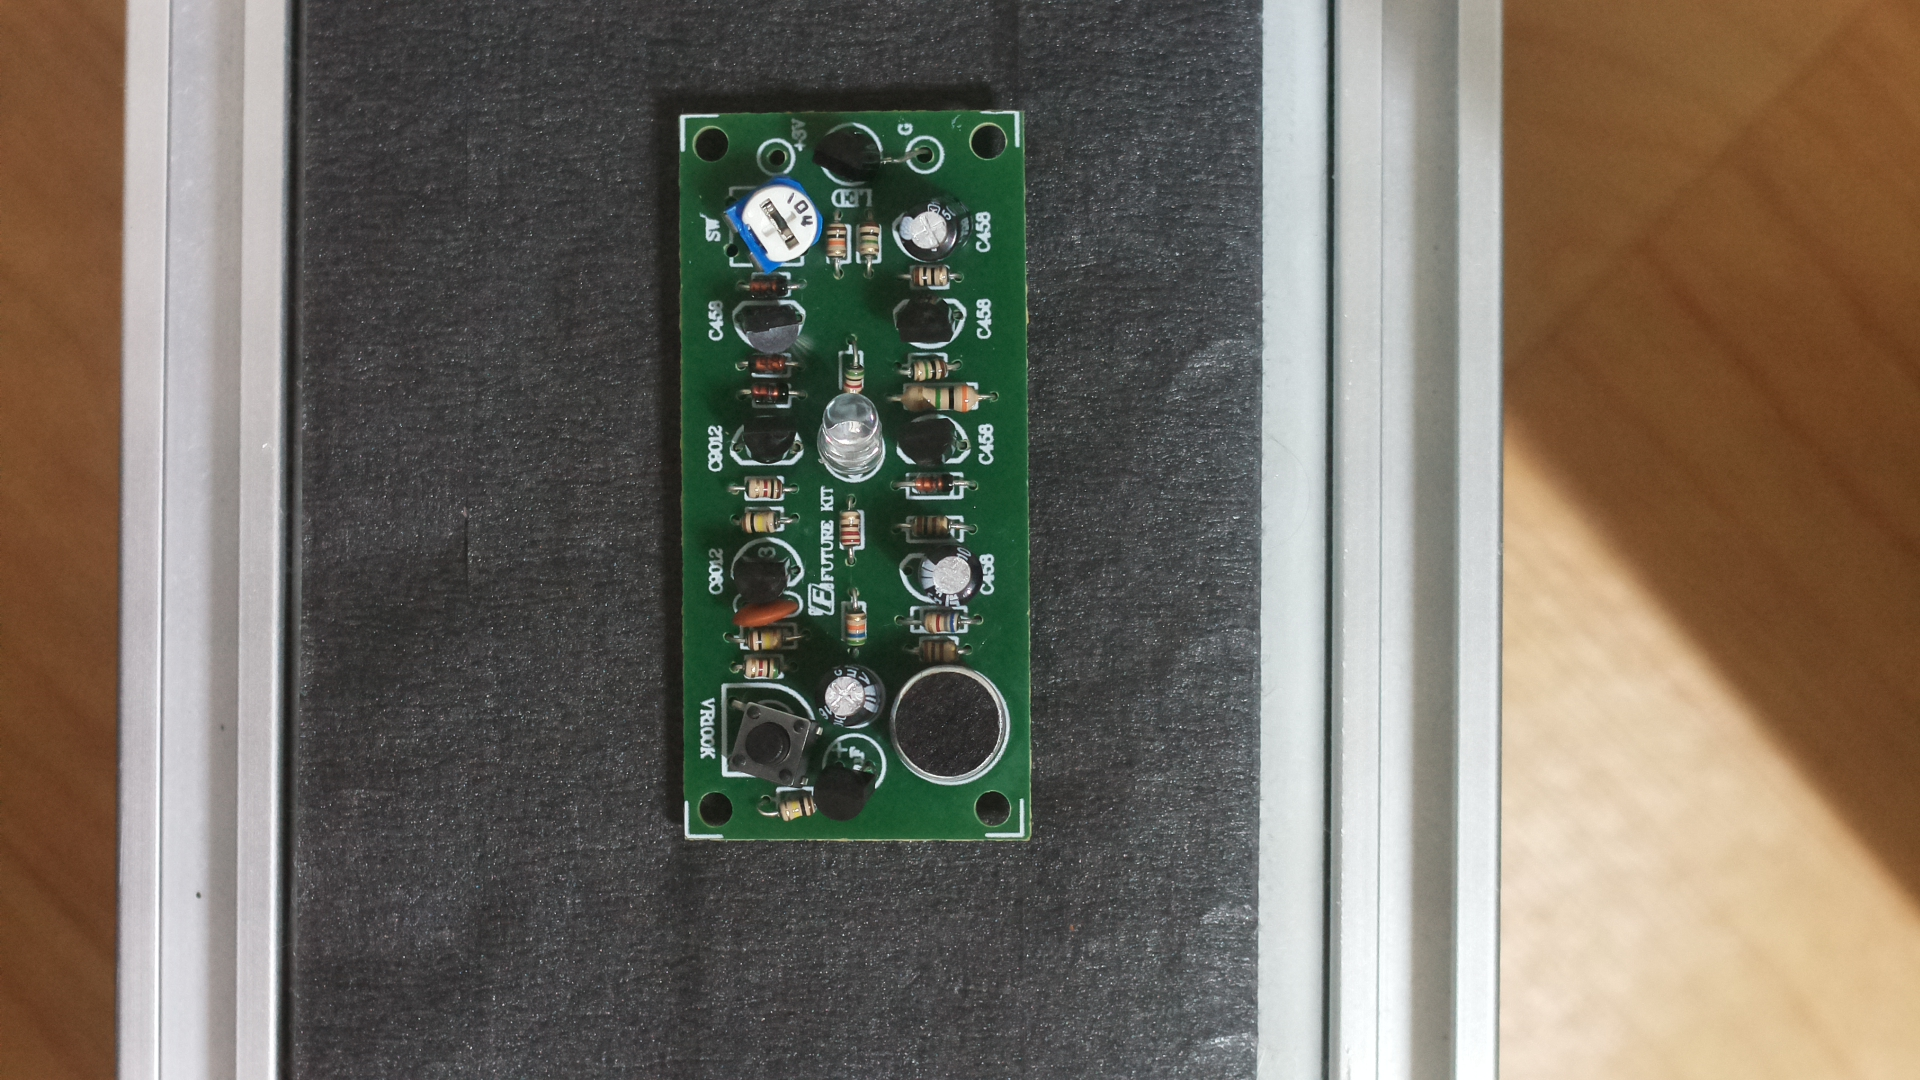A_Misordered: (657, 98, 1047, 880)
